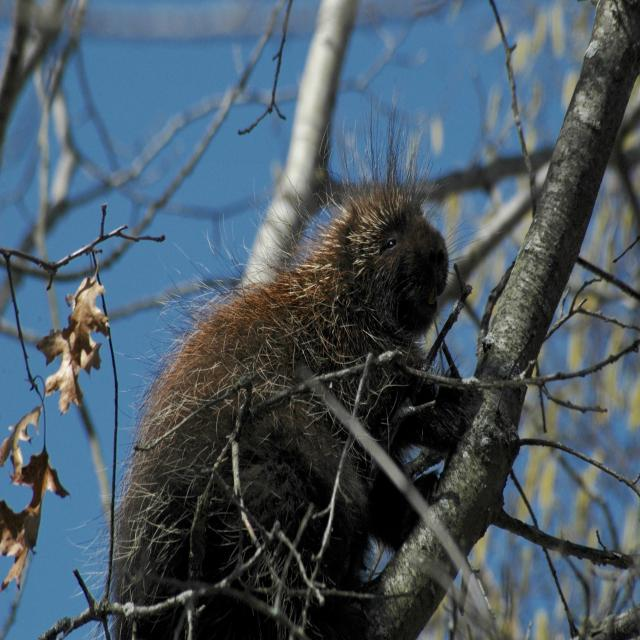porcupine: (113, 108, 448, 637)
